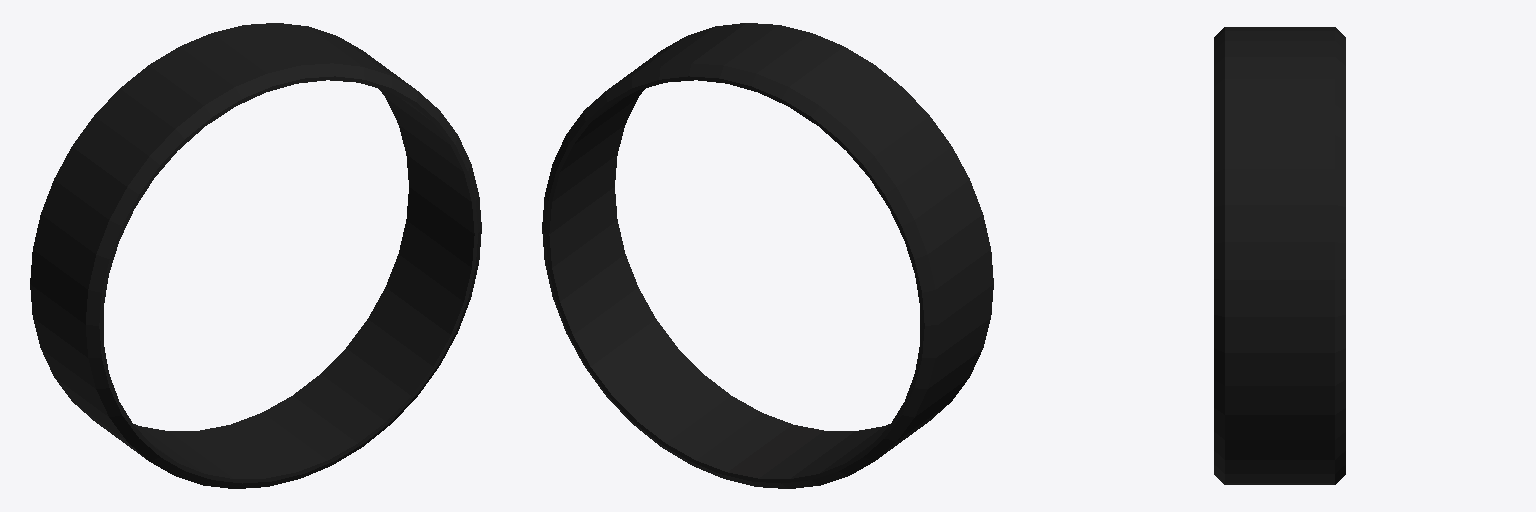
Rendered from j2n6s300_link_4_visuals_mesh_1.obj.
3 views of the same model, side by side, from view 1: azimuth 30°, elevation 25°; view 2: azimuth 150°, elevation 25°; view 3: azimuth 270°, elevation 25° (orthographic).
Size of the model in its own units: 0.0681 by 0.0679 by 0.0195.